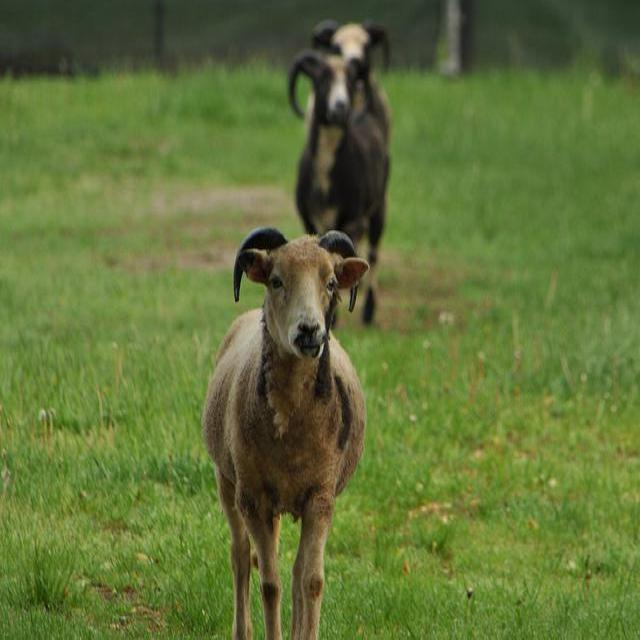Sheep: (200, 225, 370, 639), (290, 50, 390, 322), (312, 19, 396, 125)
